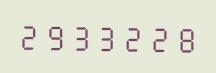eight: (173, 21, 198, 54)
nine: (43, 18, 68, 52)
three: (95, 19, 120, 53), (69, 19, 94, 52)
two: (147, 20, 172, 54), (17, 18, 42, 51), (121, 20, 146, 53)
